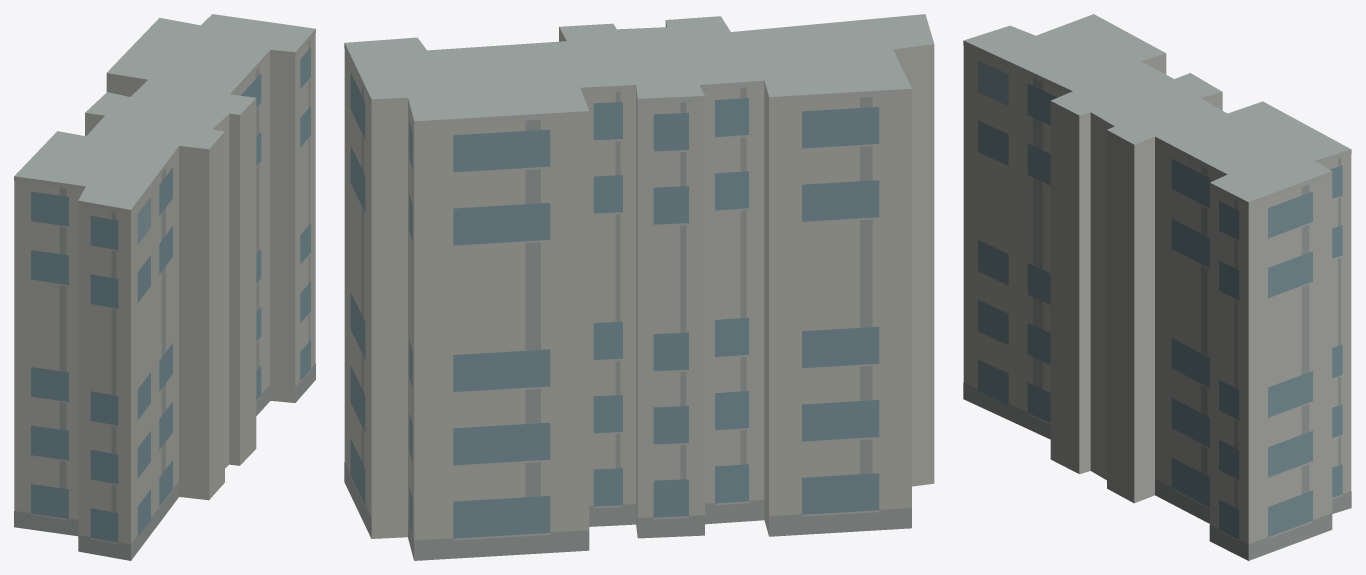
The model's file is survey-upis-32824841.glb.
The picture shows the model from 3 angles, left to right: view 1: azimuth 30°, elevation 25°; view 2: azimuth 150°, elevation 25°; view 3: azimuth 270°, elevation 25°; orthographic projection. The views are drawn at different scales.
Visible parts, largest first — view 1: survey-upis-32824841.tmp; view 2: survey-upis-32824841.tmp; view 3: survey-upis-32824841.tmp.
Boxes of the visible parts, box(x1,y1,x2,y2) form: survey-upis-32824841.tmp: box(14, 14, 315, 560); survey-upis-32824841.tmp: box(344, 14, 934, 560); survey-upis-32824841.tmp: box(963, 14, 1351, 560).
Size of the model in its own units: 20.6 by 18.3 by 17.95.
